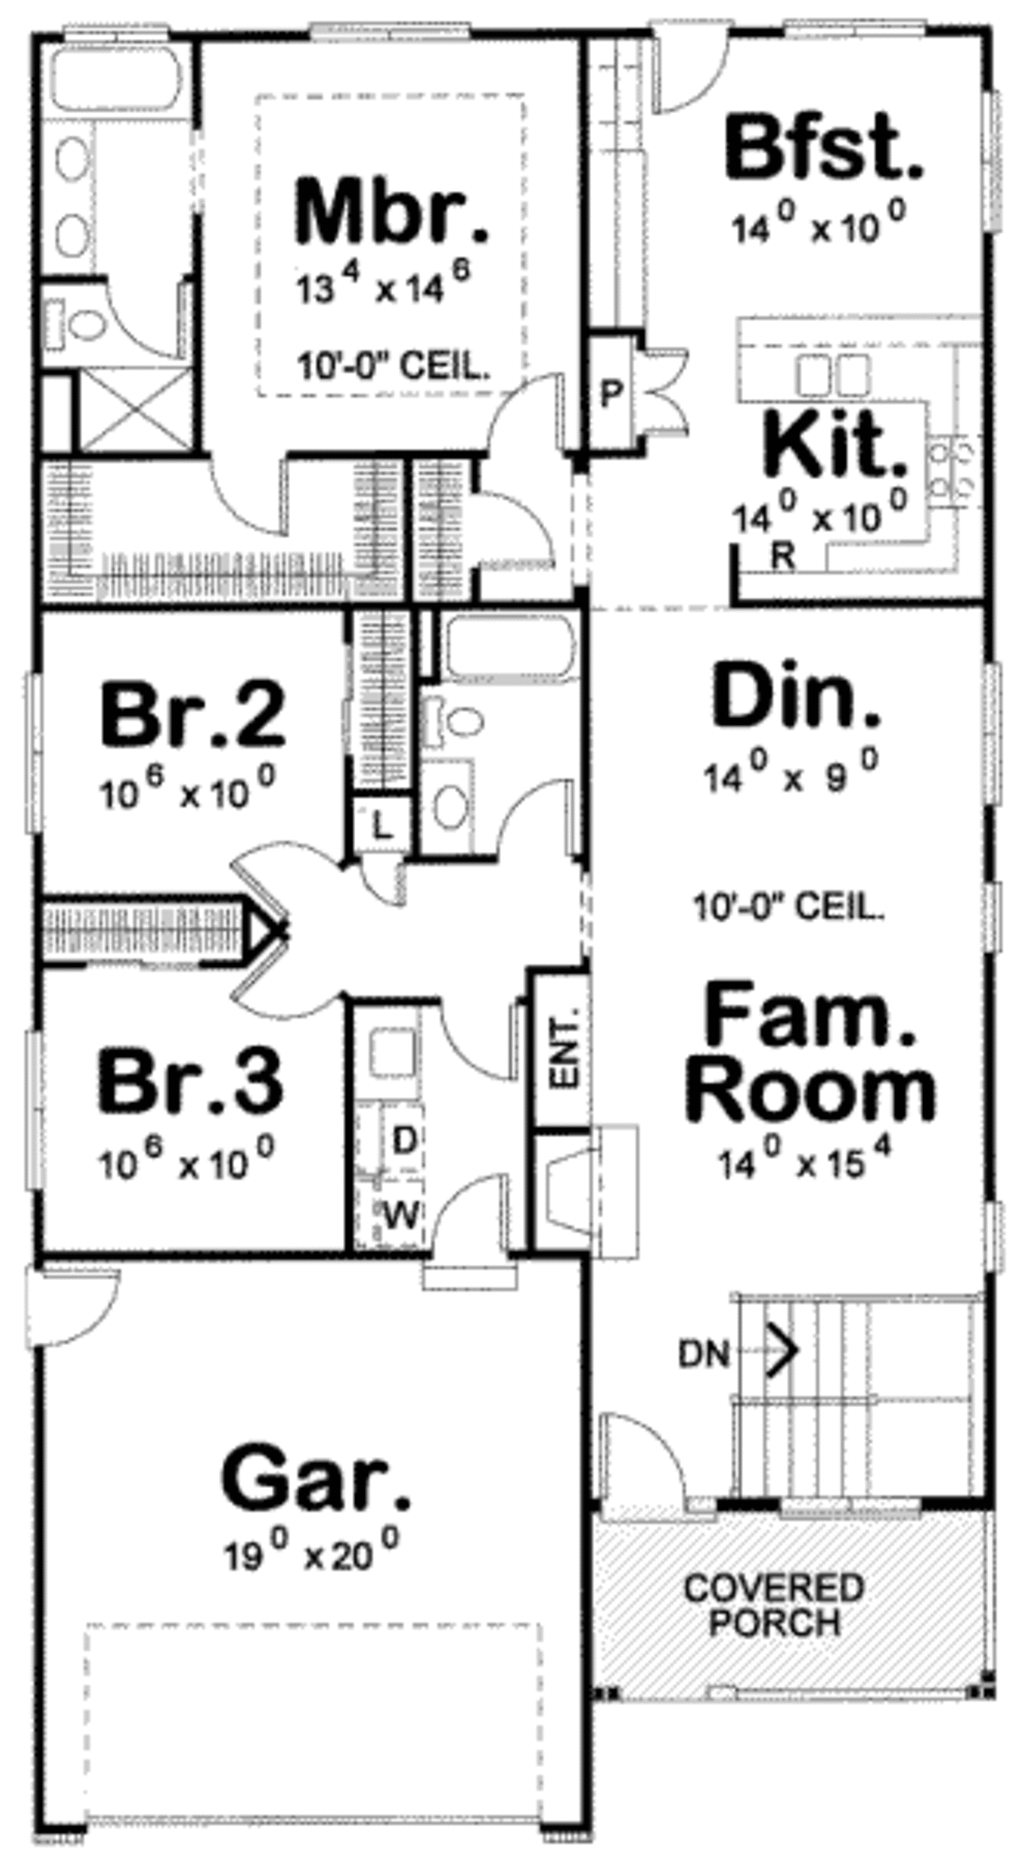door: (182, 804, 346, 940), (562, 1396, 696, 1517), (443, 343, 578, 463), (615, 332, 725, 454), (625, 3, 740, 119), (422, 1169, 522, 1293), (419, 981, 525, 1093), (190, 440, 299, 548), (19, 1254, 116, 1356), (463, 475, 562, 572), (93, 272, 195, 357), (237, 949, 346, 1027), (493, 778, 584, 864)
large_sink: (16, 287, 129, 363), (409, 685, 504, 760)
small_sink: (32, 119, 116, 266), (409, 749, 493, 857)
stairs: (699, 1298, 1011, 1504)
tub: (422, 599, 602, 698), (28, 37, 190, 116)
twin_sink: (760, 334, 905, 403)
window: (966, 661, 1019, 819), (763, 3, 937, 49), (969, 1177, 1021, 1287), (299, 19, 475, 49), (975, 93, 1008, 250), (979, 888, 1016, 981)
